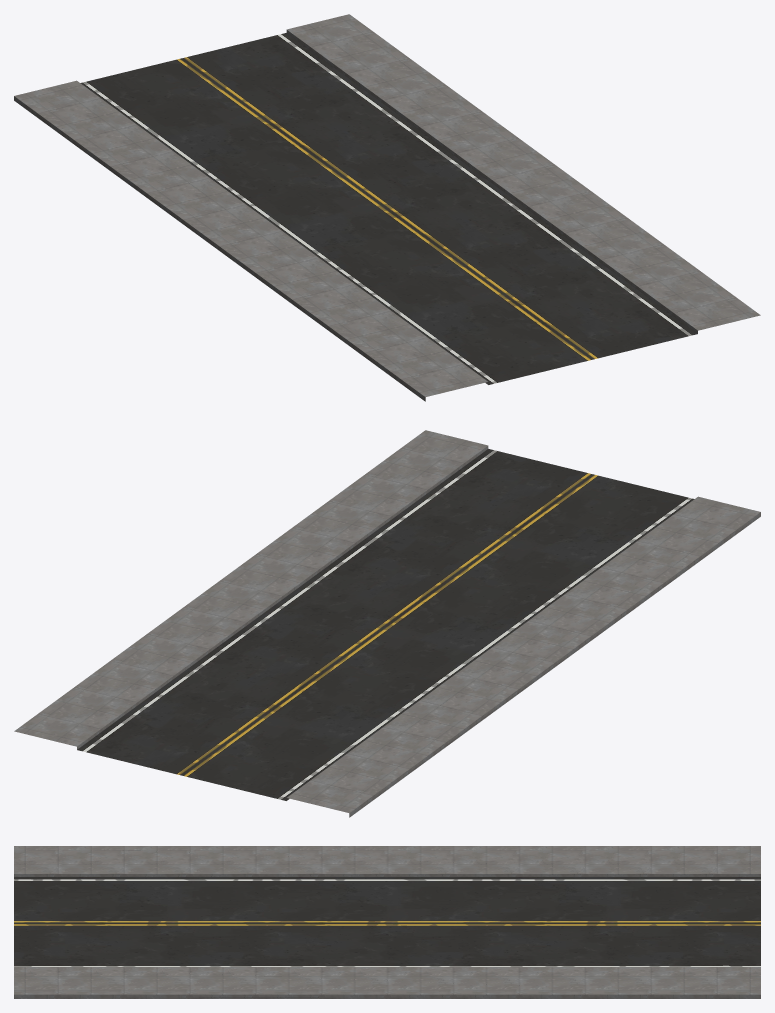
File: road-seg-34.glb
3 views of the same model, one above another, from view 1: azimuth 30°, elevation 25°; view 2: azimuth 150°, elevation 25°; view 3: azimuth 270°, elevation 25° (orthographic). The views are drawn at different scales.
Parts seen in each view (by area): view 1: road-seg-34; view 2: road-seg-34; view 3: road-seg-34.
Part boxes in pixels (x1,y1,x2,y2): road-seg-34: [14, 14, 760, 401]; road-seg-34: [14, 430, 760, 817]; road-seg-34: [14, 846, 760, 998].
Size of the model in its own units: 16 by 0.21 by 34.
2 materials, 2 textured.
